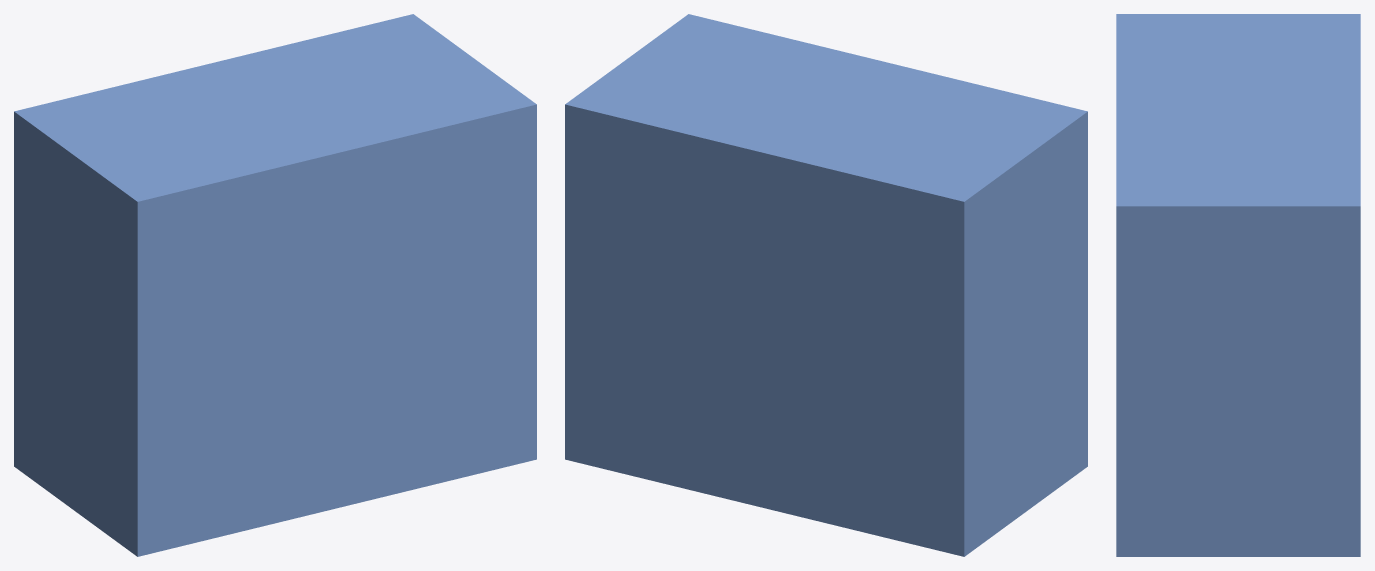
3 views of the same model, side by side, from view 1: azimuth 30°, elevation 25°; view 2: azimuth 150°, elevation 25°; view 3: azimuth 270°, elevation 25° (orthographic).
Parts seen in each view (by area): view 1: mesh3, mesh7, mesh4; view 2: mesh5, mesh7, mesh4; view 3: mesh6, mesh7.
Boxes of the visible parts, <box> form: mesh3: <box>137,104,536,556</box>; mesh7: <box>14,14,536,201</box>; mesh4: <box>14,111,137,556</box>; mesh5: <box>565,104,964,556</box>; mesh7: <box>565,14,1087,201</box>; mesh4: <box>964,111,1087,556</box>; mesh6: <box>1116,206,1360,556</box>; mesh7: <box>1116,14,1360,206</box>.
Bounding box in the file's own units: 0.0433 × 0.0388 × 0.0232.
